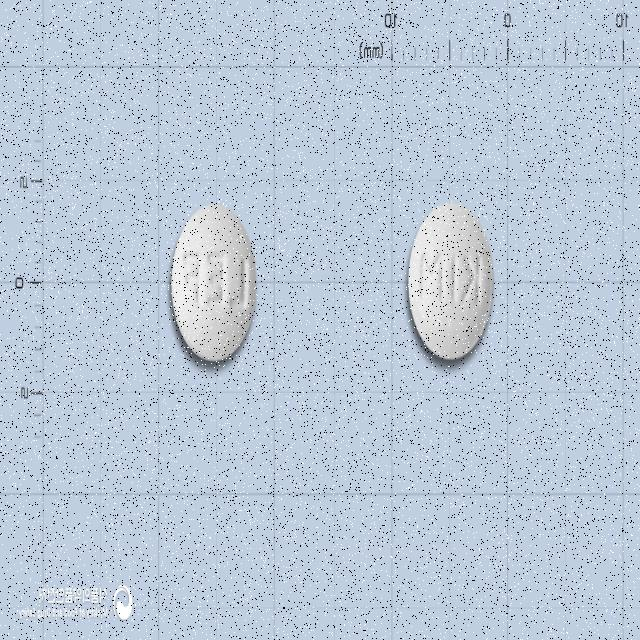Kimara - 20mg: (170, 201, 258, 361), (406, 202, 494, 360)
